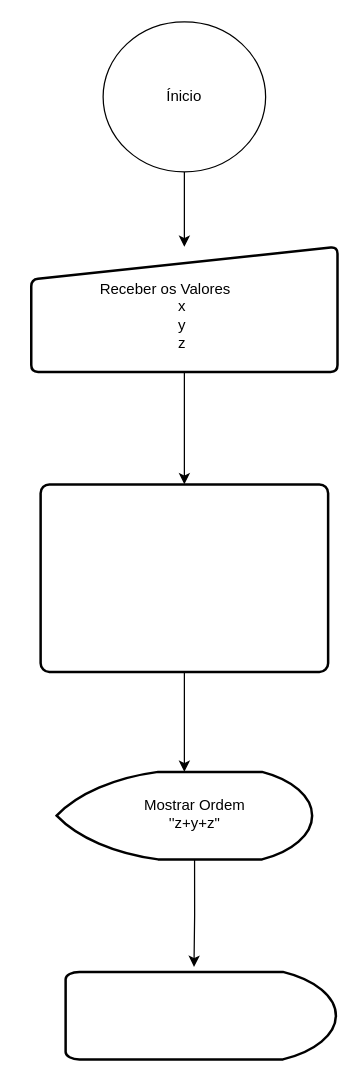
This 360x1083 diagram has some shape labels left out. Each missing label, with the box of its shape:
Fim: (64, 970, 336, 1060)
Guardar a ordem que forma digitados x +y +z Iverter ordem z +y+ x: (39, 482, 329, 672)
